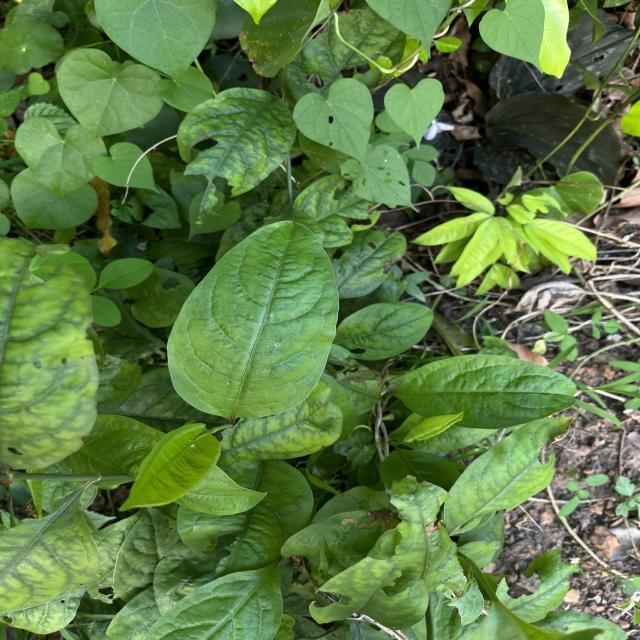Plumbago indica: (164, 214, 344, 420), (168, 78, 312, 237), (386, 351, 587, 429), (111, 419, 225, 512), (342, 297, 434, 362)
